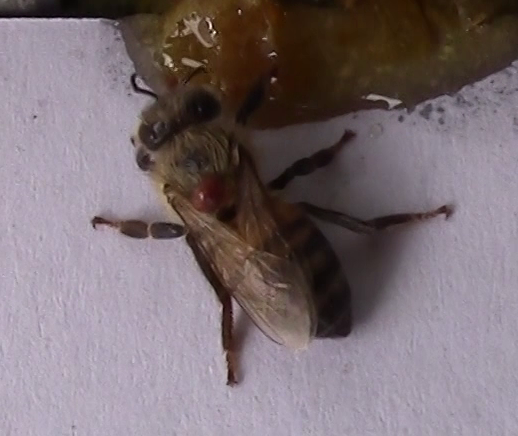Varroa destructor: (188, 171, 230, 213)
